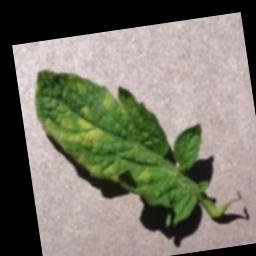Leaf_Mold: (38, 100, 105, 156), (100, 85, 119, 112), (87, 163, 98, 176)
